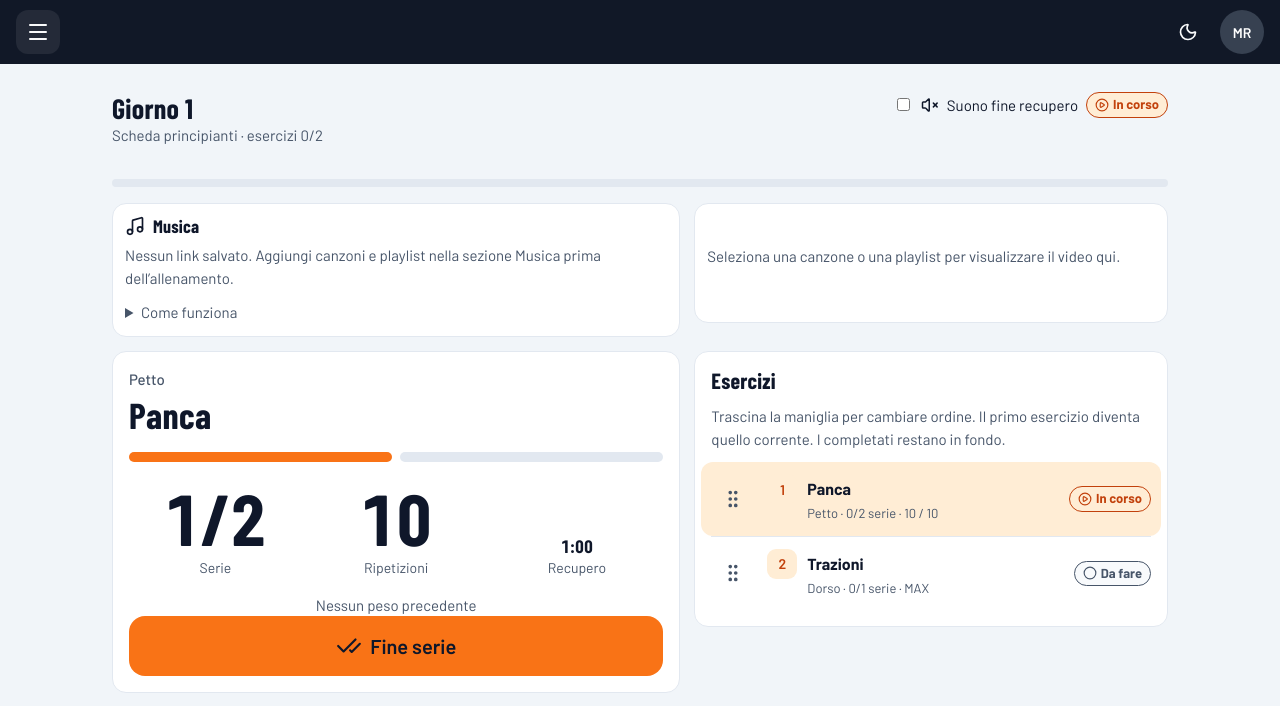
it: workout screen › retries Fine serie after a network failure (idempotent action)
Click the button "Fine serie". click: [396, 646]
box: left=129, top=616, right=663, bottom=676
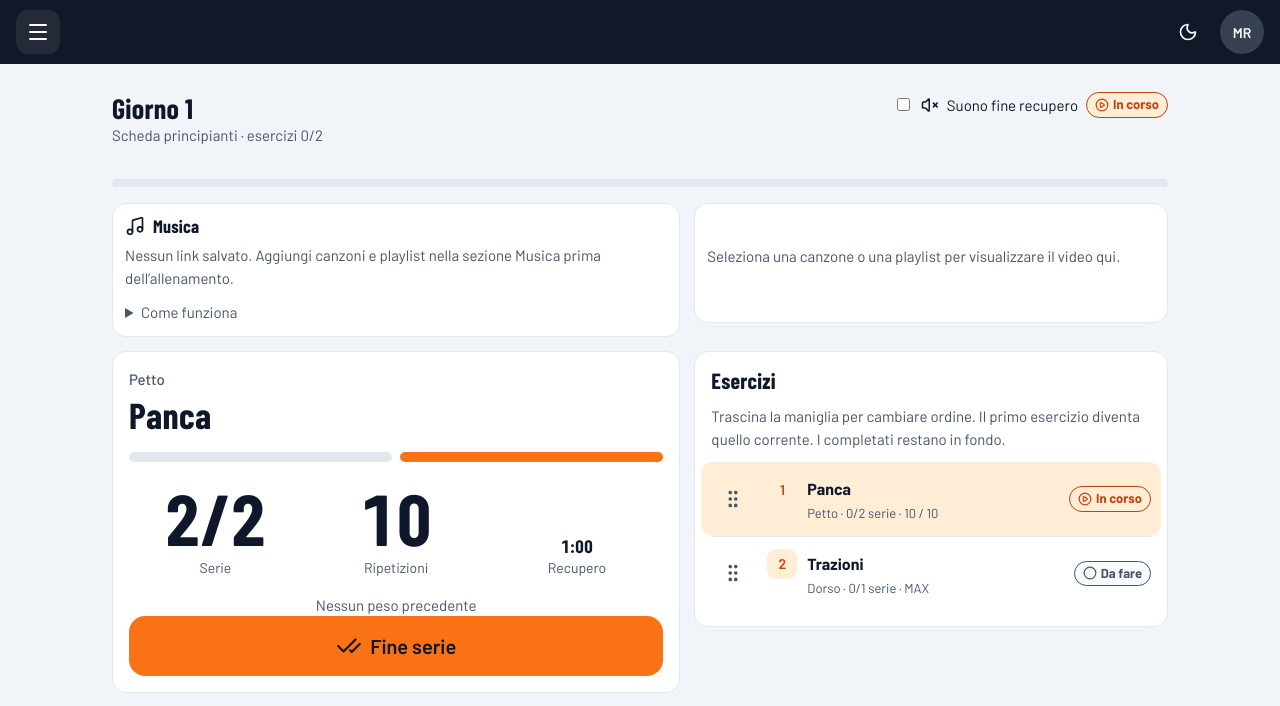
Check: the text "2/2" is shown, box left=165, top=478, right=266, bottom=557
